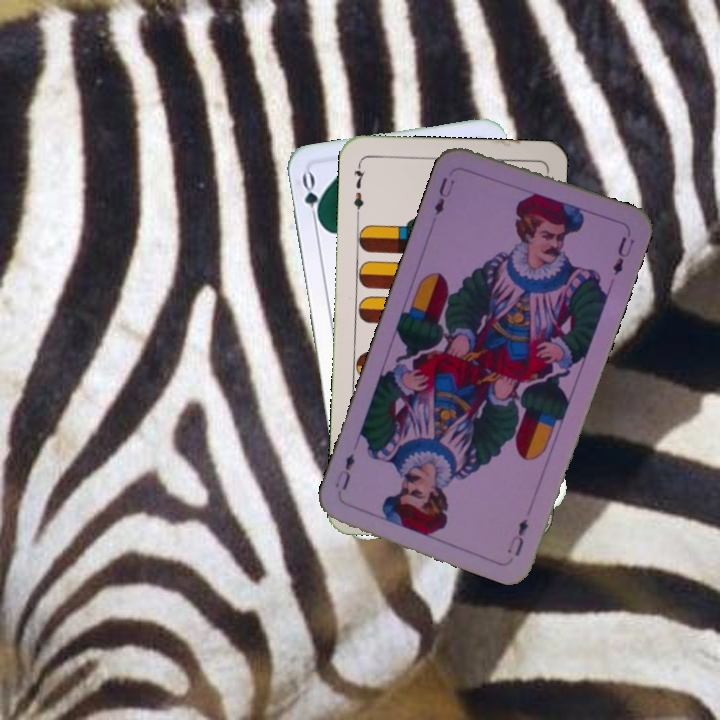E7: (349, 159, 367, 219)
EU: (430, 173, 457, 219), (503, 515, 531, 559)
GO: (298, 169, 325, 228)
